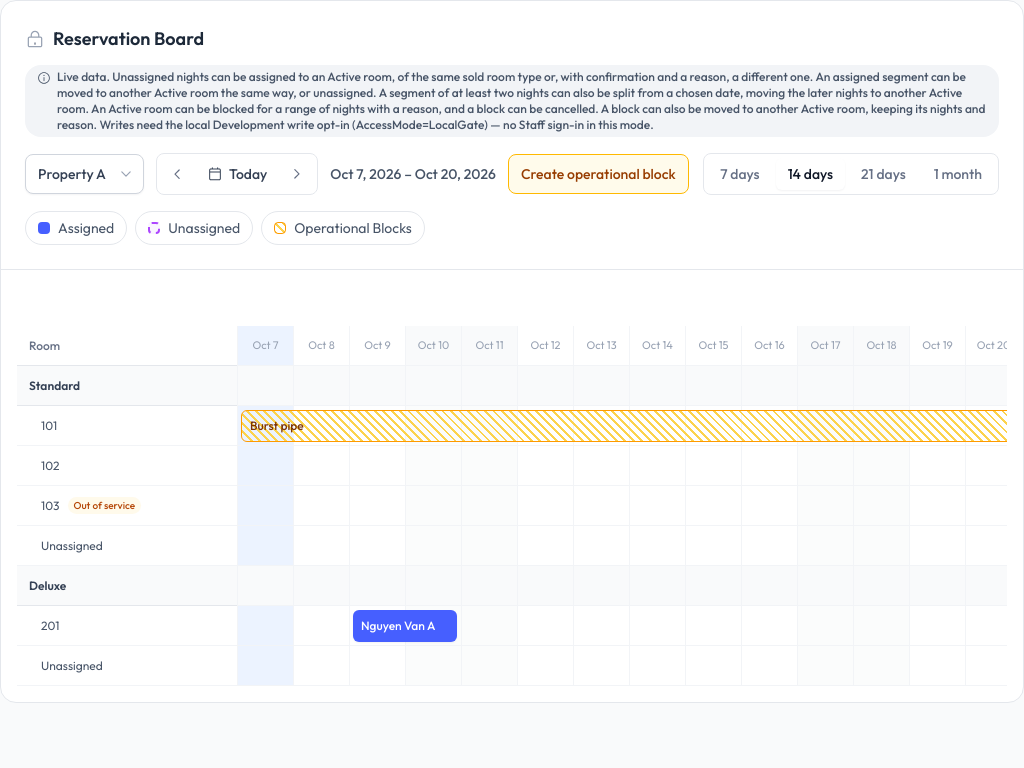
the action (offered, absent, disabled) › opens the dialog for the segment's own full nights, not the part the window shows
Check: the button titled "Burst pipe" is shown, box top-left (241, 410), bottom-right (1007, 442)
What coordinates should you click on to do the following:
click the button titled "Burst pipe"
I would click on:
 (277, 426)
Its box is top-left (241, 410), bottom-right (1017, 442).
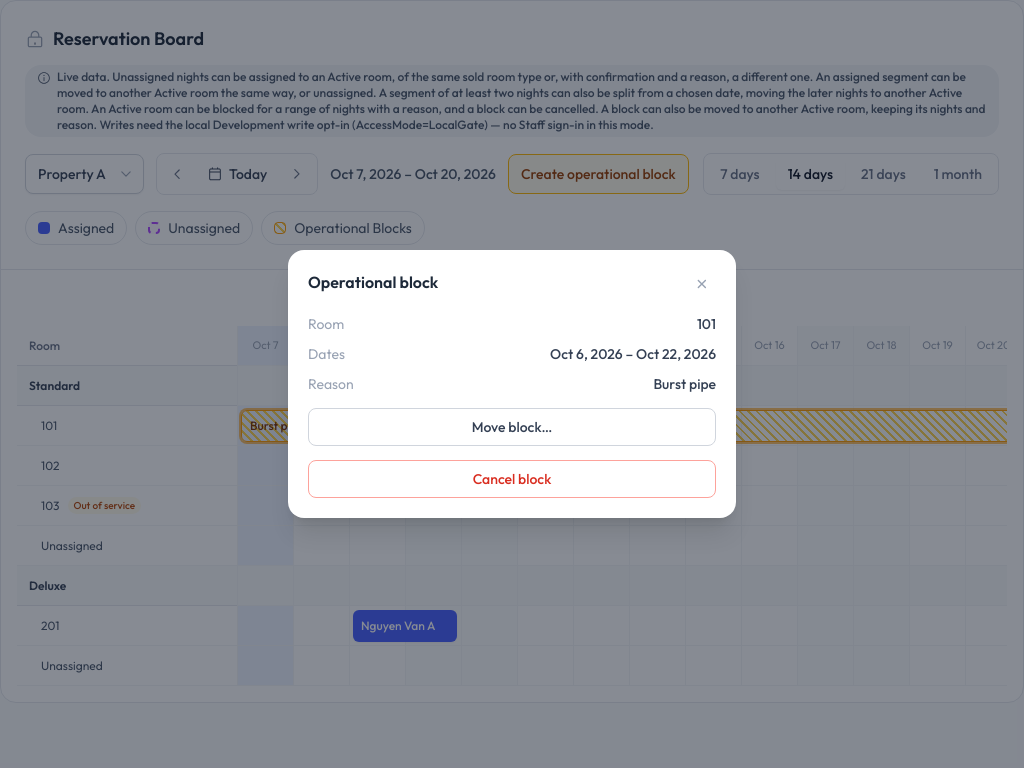
What coordinates should you click on to do the following:
click the button "Move block…"
I would click on:
 (512, 427)
Its box is top-left (308, 408), bottom-right (716, 446).
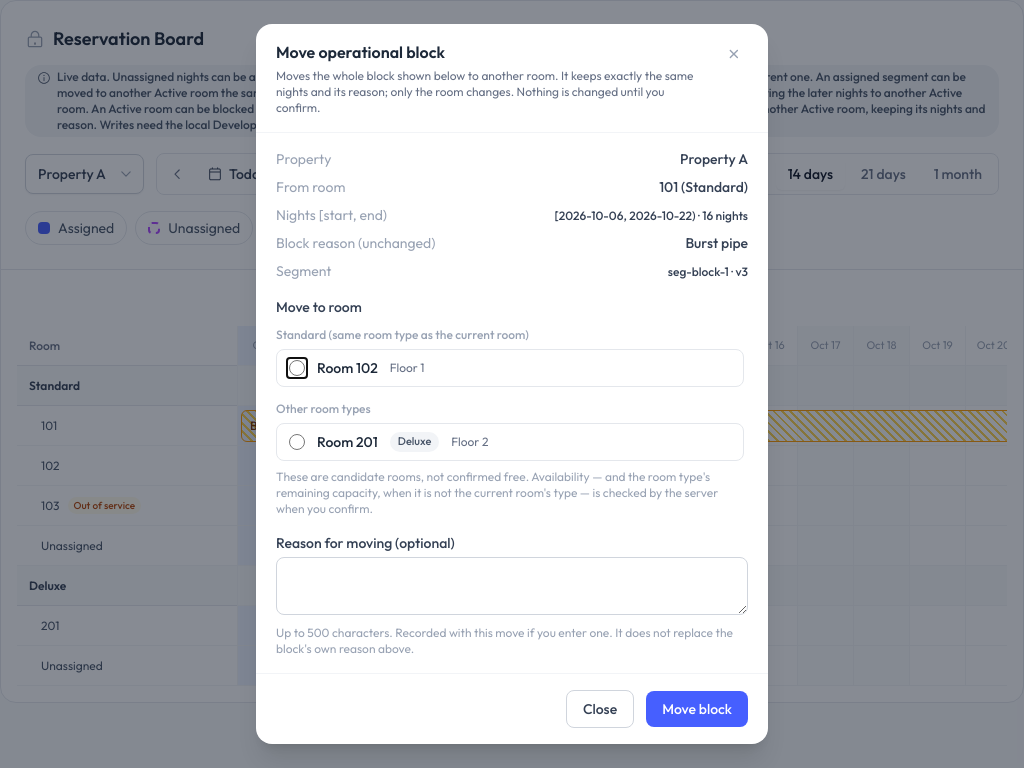
Check: the dialog "Move operational block" is shown, box top-left (256, 24), bottom-right (768, 744)
Check: the dialog "Move operational block" shows "Burst pipe", box top-left (685, 234), bottom-right (748, 252)
Check: the dialog "Move operational block" shows "Block reason (unchanged)", box top-left (276, 234), bottom-right (436, 252)
